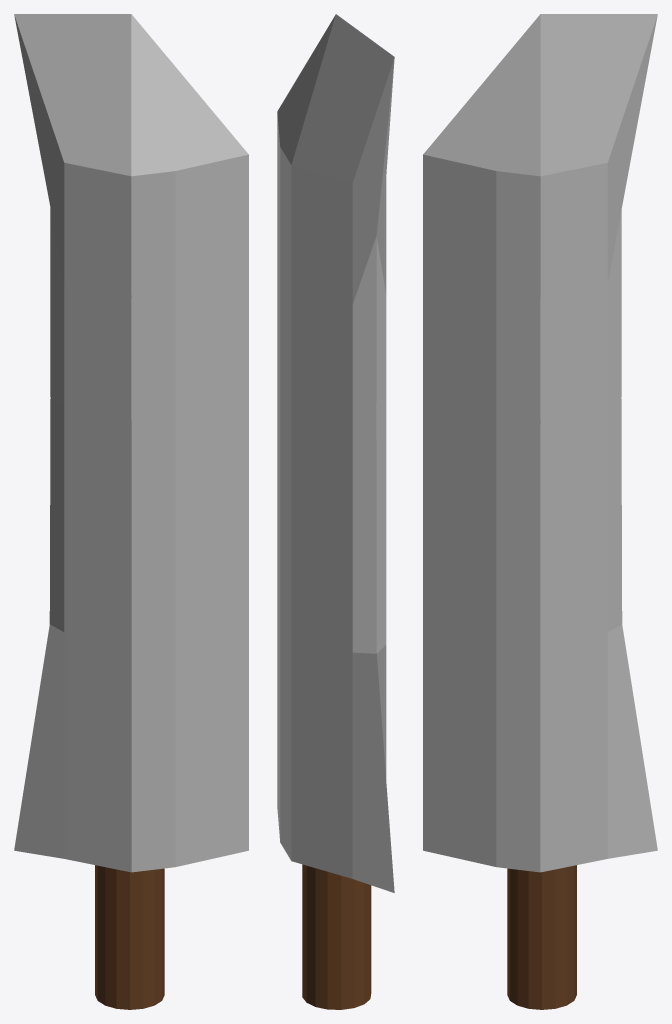
File: ChopperSword.fbx
The picture shows the model from 3 angles, left to right: view 1: azimuth 90°, elevation 25°; view 2: azimuth 210°, elevation 25°; view 3: azimuth 270°, elevation 25°; orthographic projection.
Parts seen in each view (by area): view 1: Cube; view 2: Cube; view 3: Cube.
Boxes of the visible parts, box(x1,y1,x2,y2) form: Cube: box(14, 14, 248, 1009); Cube: box(277, 14, 394, 1009); Cube: box(423, 14, 657, 1009).
Size of the model in its own units: 0.135 by 0.6226 by 0.0592.
